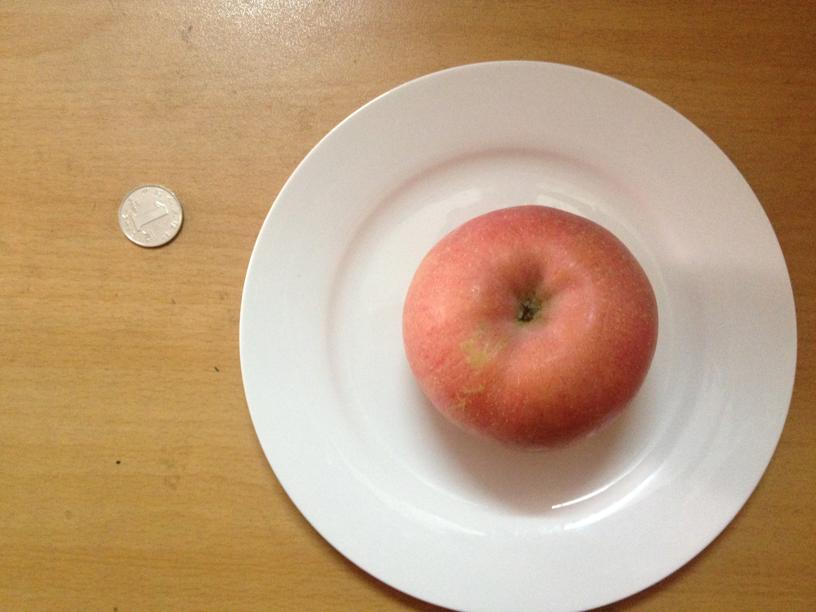apple: (406, 208, 657, 451)
coin: (118, 183, 183, 248)
